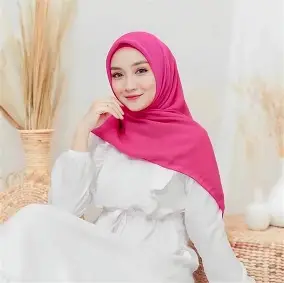kerudung_benar: (98, 26, 195, 127)
